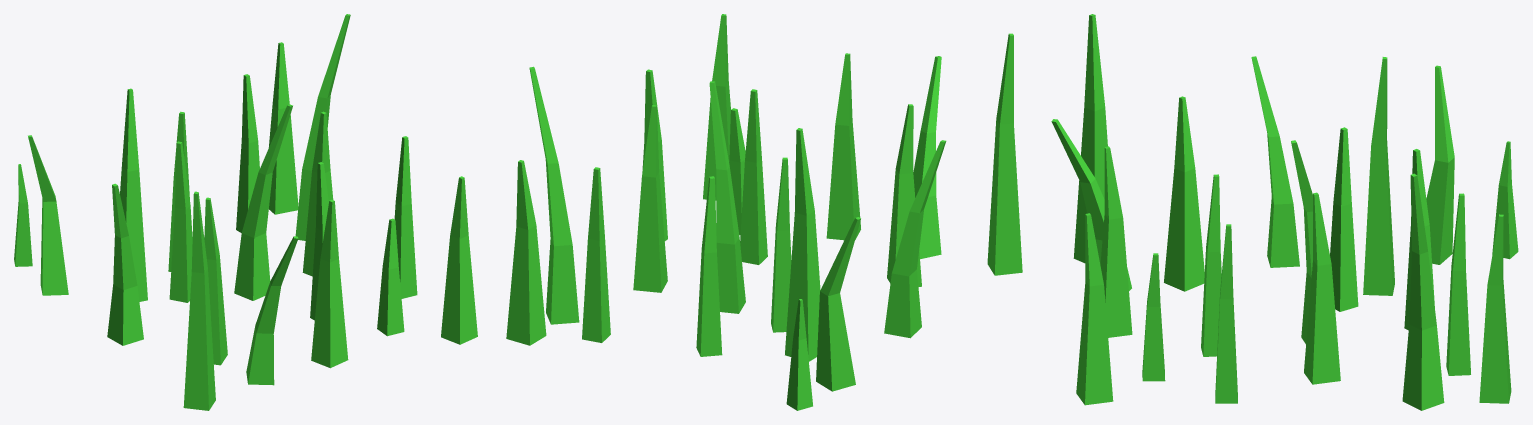
The model's file is grassTest.fbx.
3 views of the same model, side by side, from view 1: azimuth 30°, elevation 25°; view 2: azimuth 150°, elevation 25°; view 3: azimuth 270°, elevation 25° (orthographic). The views are drawn at different scales.
Parts seen in each view (by area): view 1: Cube.012; view 2: Cube.012; view 3: Cube.012.
Part boxes in pixels (x1,y1,x2,y2): Cube.012: [14, 14, 477, 410]; Cube.012: [506, 14, 1022, 410]; Cube.012: [1051, 14, 1518, 410].
Bounding box in the file's own units: 2747 × 1821 × 3147.
